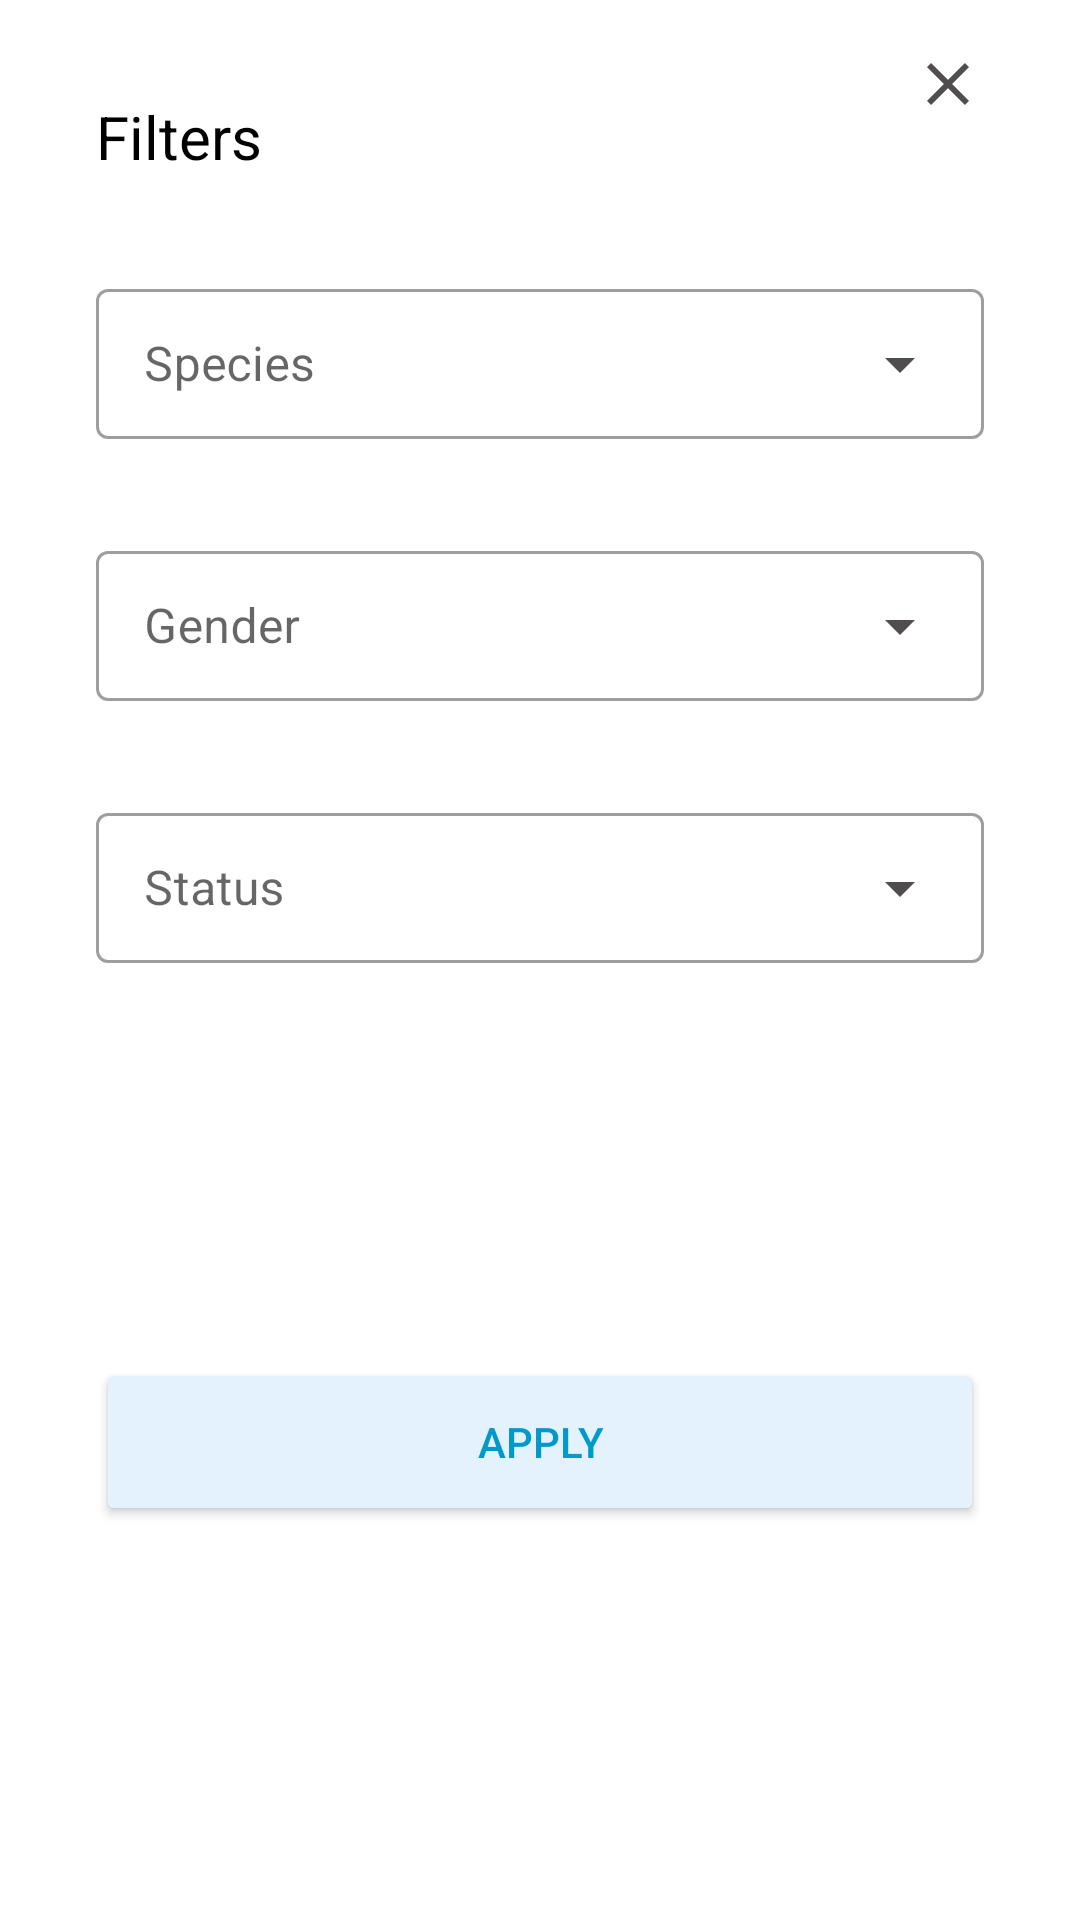

Icons on this 1080*1920 Android screen, each with its box as (x1, y1, x2, y2):
close: (927, 63, 969, 105)
